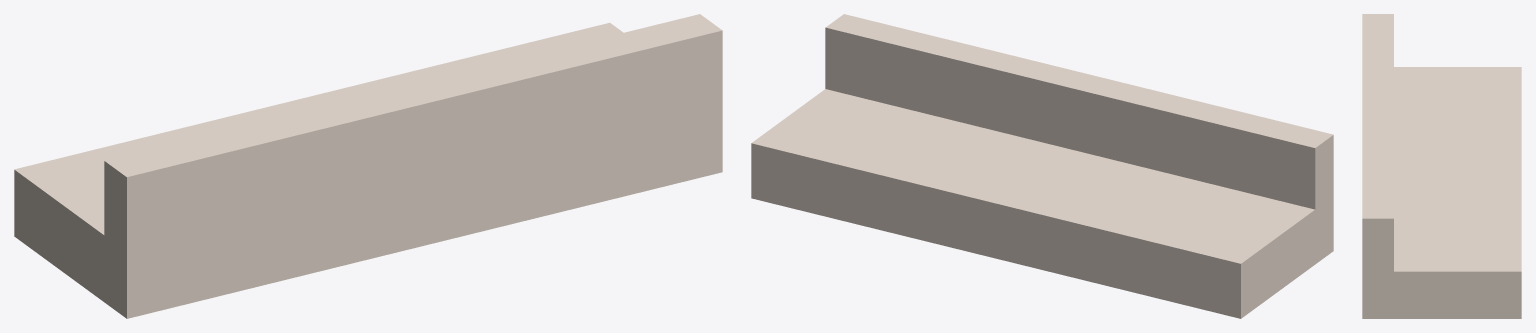
Rendered from DrawermeshRobothorSideTableDrawer_1_Hopen_1_GeomSubset_2.obj.
3 views of the same model, side by side, from view 1: azimuth 30°, elevation 25°; view 2: azimuth 150°, elevation 25°; view 3: azimuth 270°, elevation 25° (orthographic). The views are drawn at different scales.
Parts seen in each view (by area): view 1: DrawermeshRobothorSideTableDrawer_1_Hopen_1_GeomSubset_2; view 2: DrawermeshRobothorSideTableDrawer_1_Hopen_1_GeomSubset_2; view 3: DrawermeshRobothorSideTableDrawer_1_Hopen_1_GeomSubset_2.
Part boxes in pixels (left/top/right/bottom): DrawermeshRobothorSideTableDrawer_1_Hopen_1_GeomSubset_2: left=14, top=14, right=722, bottom=318; DrawermeshRobothorSideTableDrawer_1_Hopen_1_GeomSubset_2: left=751, top=14, right=1333, bottom=318; DrawermeshRobothorSideTableDrawer_1_Hopen_1_GeomSubset_2: left=1362, top=14, right=1521, bottom=318.
Bounding box in the file's own units: 0.0835 × 0.0192 × 0.0274.
